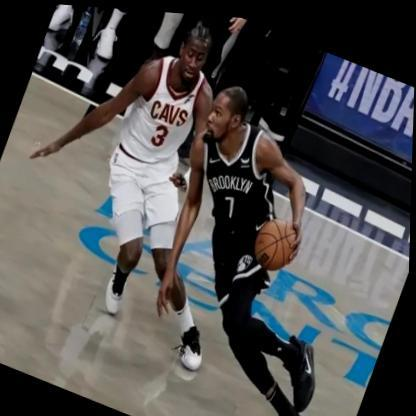basketball: (249, 207, 305, 273)
